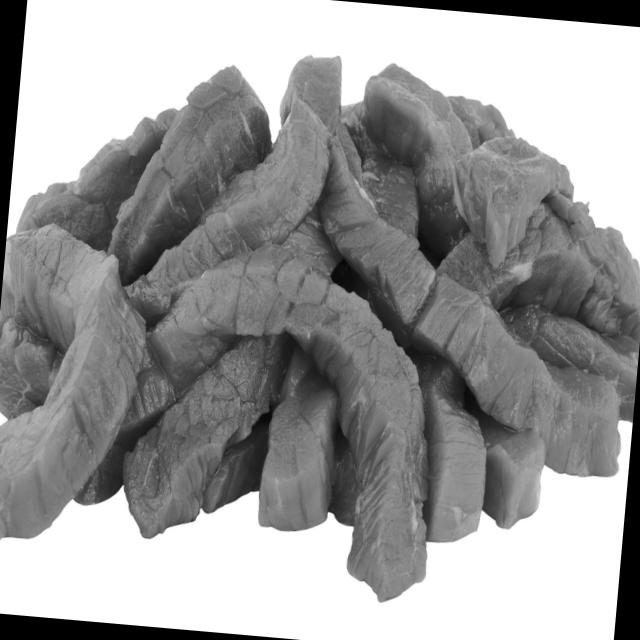meat pieces: (0, 24, 640, 622)
